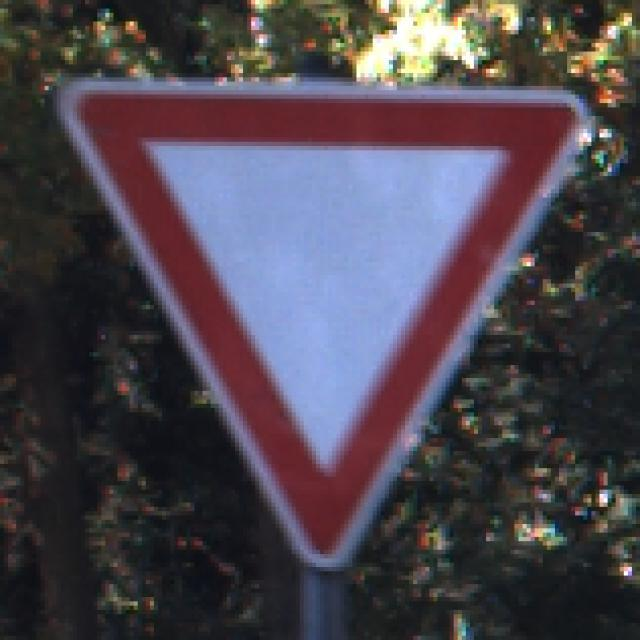give way: (49, 65, 592, 581)
